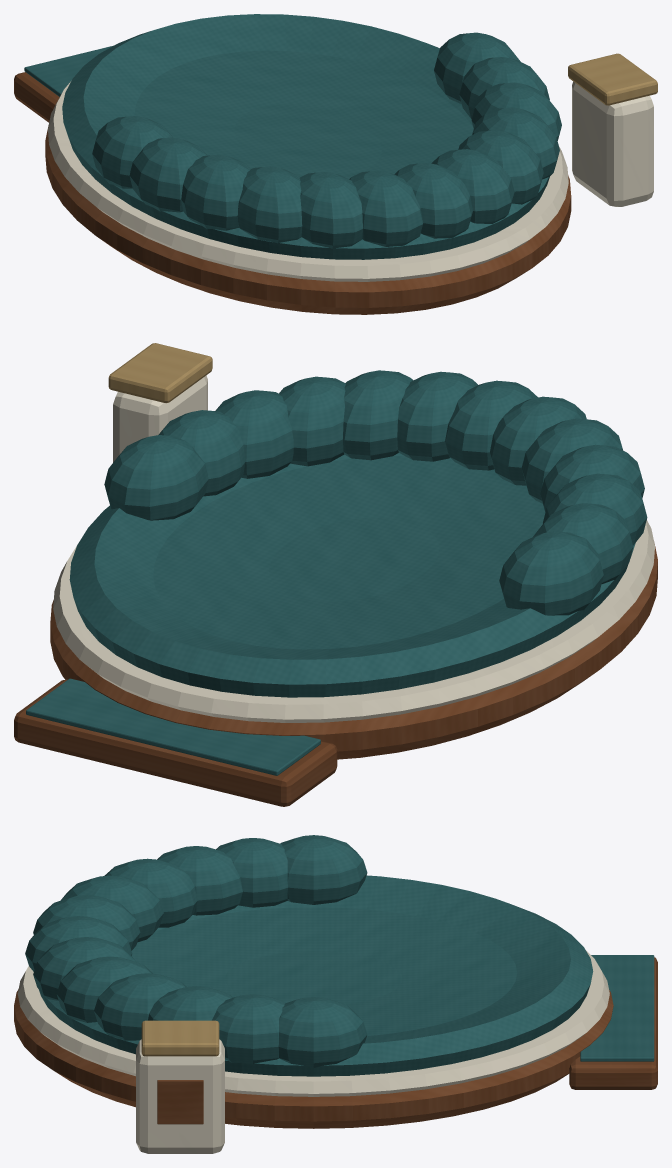
File: AST-RST-LN-001.glb
3 views of the same model, one above another, from view 1: azimuth 30°, elevation 25°; view 2: azimuth 150°, elevation 25°; view 3: azimuth 270°, elevation 25° (orthographic). The views are drawn at different scales.
Visible parts, largest first — view 1: NestContouredSupport, NestWeightedPlinth, NestEnamelRim, EnvironmentServicePedestal, NestBolster_09, NestBolster_08, NestBolster_07, NestBolster_10, NestBolster_06, NestBolster_11, NestBolster_05, NestBolster_12 (+8 smaller); view 2: NestContouredSupport, NestEnamelRim, NestWeightedPlinth, LowTransferStep, TransferStepPad, NestBolster_12, NestBolster_00, NestBolster_04, NestBolster_05, NestBolster_03, NestBolster_02, NestBolster_06 (+8 smaller); view 3: NestContouredSupport, NestWeightedPlinth, NestEnamelRim, EnvironmentServicePedestal, TransferStepPad, NestBolster_00, NestBolster_12, NestBolster_01, NestBolster_03, NestBolster_11, NestBolster_10, NestBolster_04 (+9 smaller).
Boxes of the visible parts, x1,y1,x2,y2 form: NestContouredSupport: [62, 14, 549, 259]; NestWeightedPlinth: [45, 125, 571, 314]; NestEnamelRim: [48, 81, 568, 281]; EnvironmentServicePedestal: [572, 81, 653, 206]; NestBolster_09: [237, 166, 302, 243]; NestBolster_08: [299, 172, 362, 248]; NestBolster_07: [349, 170, 423, 246]; NestBolster_10: [181, 154, 250, 230]; NestBolster_06: [394, 163, 472, 238]; NestBolster_11: [129, 137, 206, 212]; NestBolster_05: [431, 149, 514, 223]; NestBolster_12: [92, 116, 172, 188]; NestContouredSupport: [69, 453, 635, 697]; NestEnamelRim: [53, 520, 654, 722]; NestWeightedPlinth: [50, 544, 657, 759]; LowTransferStep: [14, 679, 337, 806]; TransferStepPad: [26, 678, 320, 775]; NestBolster_12: [499, 531, 603, 615]; NestBolster_00: [104, 435, 208, 520]; NestBolster_04: [343, 370, 413, 460]; NestBolster_05: [397, 371, 477, 461]; NestBolster_03: [279, 376, 345, 466]; NestBolster_02: [215, 390, 293, 478]; NestBolster_06: [445, 380, 537, 470]; NestContouredSupport: [39, 875, 593, 1076]; NestWeightedPlinth: [14, 989, 613, 1128]; NestEnamelRim: [17, 950, 609, 1096]; EnvironmentServicePedestal: [136, 1039, 224, 1153]; TransferStepPad: [580, 955, 654, 1061]; NestBolster_00: [278, 997, 367, 1068]; NestBolster_12: [280, 835, 367, 904]; NestBolster_01: [212, 994, 286, 1064]; NestBolster_03: [94, 973, 186, 1040]; NestBolster_11: [216, 838, 287, 907]; NestBolster_10: [157, 846, 242, 915]; NestBolster_04: [56, 956, 152, 1022].
Bounding box in the file's own units: 2.88 × 0.69 × 3.48.
4 materials, 4 textured.
